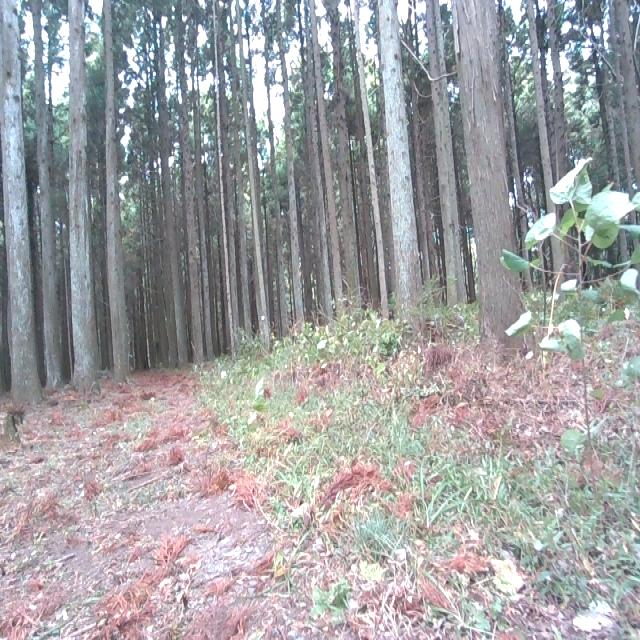bush: (499, 148, 631, 569)
tree: (449, 0, 529, 356), (0, 0, 44, 412), (375, 0, 427, 343), (64, 0, 104, 391), (103, 0, 133, 376)
